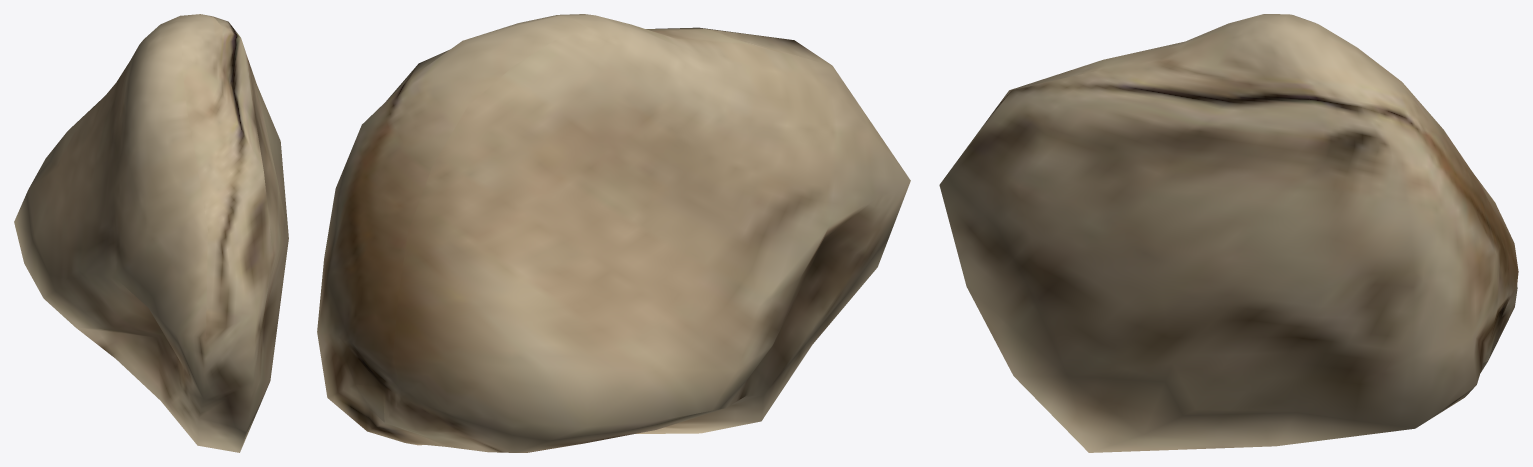
File: Maxilary_Premolar3.glb
3 views of the same model, side by side, from view 1: azimuth 30°, elevation 25°; view 2: azimuth 150°, elevation 25°; view 3: azimuth 270°, elevation 25° (orthographic). The views are drawn at different scales.
Visible parts, largest first — view 1: Premolar9; view 2: Premolar9; view 3: Premolar9.
Boxes of the visible parts, bbox=[...] form: Premolar9: bbox=[14, 14, 288, 452]; Premolar9: bbox=[317, 14, 910, 452]; Premolar9: bbox=[939, 14, 1518, 452].
Size of the model in its own units: 0.0228 by 0.0315 by 0.0374.
Materials: 1 (1 with a texture image).
